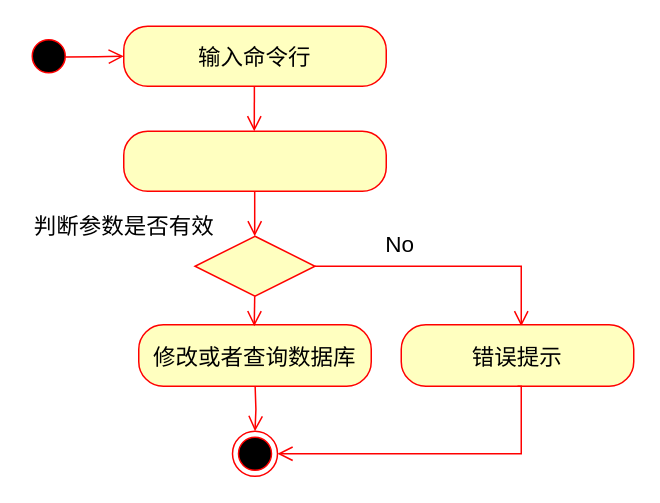
Some shapes in this 660 by 503 pixel diagram are drawn without their labels. Here are the shapes that lost their labels. From the top down, the centre of each, then its label:
At [254,160]: "解析命令行的参数".
At [254,265]: "Yes".
